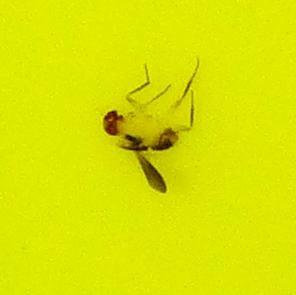Brachycera: (100, 100, 196, 195)
